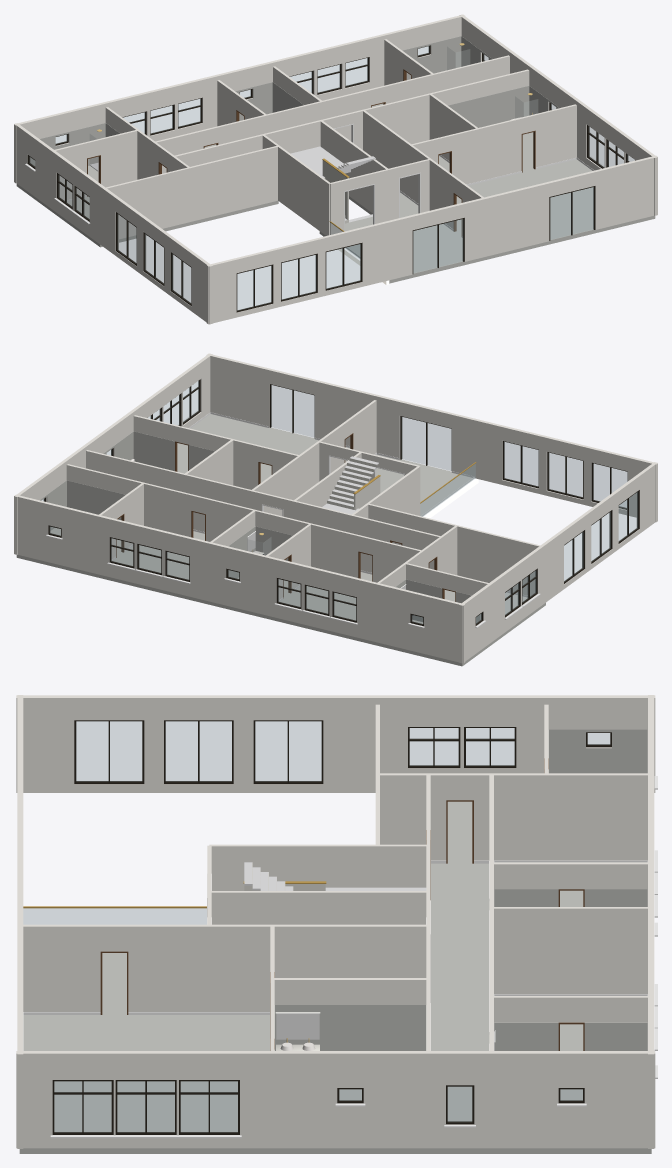
The model's file is int_est_S10_1.glb.
The picture shows the model from 3 angles, top to bottom: view 1: azimuth 30°, elevation 25°; view 2: azimuth 150°, elevation 25°; view 3: azimuth 270°, elevation 25°; orthographic projection. The views are drawn at different scales.
Visible parts, largest first — view 1: WALL_0, ROOM, WALL_13, WALL_5, WALL_4, WALL_9, WALL_14, WALL_7, WALL_3, WALL_2, WALL_6, WALL_1 (+7 smaller); view 2: WALL_13, WALL_0, ROOM, WALL_5, WALL_14, WALL_7, WALL_3, WALL_4, WALL_2, WALL_9, WALL_12, WALL_1 (+7 smaller); view 3: ROOM, WALL_3, WALL_5, WALL_2, WALL_12, WALL_16, WALL_1, WALL_8, WALL_15, WALL_17, WALL_10, WALL_13 (+4 smaller).
Boxes of the visible parts, x1,y1,x2,y2 form: WALL_0: (206,155,657,324); ROOM: (16,36,655,284); WALL_13: (14,14,464,183); WALL_5: (14,123,212,324); WALL_4: (106,146,277,239); WALL_9: (410,104,576,184); WALL_14: (154,55,509,173); WALL_7: (174,69,529,166); WALL_3: (459,14,657,215); WALL_2: (363,110,483,236); WALL_6: (330,159,430,234); WALL_1: (262,135,330,235); WALL_13: (14,495,465,663); WALL_0: (207,353,657,522); ROOM: (16,412,545,666); WALL_5: (459,462,657,663); WALL_14: (66,464,422,582); WALL_7: (86,450,441,572); WALL_3: (14,353,212,554); WALL_4: (368,503,540,595); WALL_2: (252,400,376,515); WALL_9: (133,415,299,489); WALL_12: (377,525,457,586); WALL_1: (352,466,420,518); ROOM: (19,729,651,1153); WALL_3: (16,1051,655,1148); WALL_5: (16,695,655,792); WALL_2: (23,924,426,1014); WALL_12: (378,773,647,863); WALL_16: (494,907,647,994); WALL_1: (209,844,426,890); WALL_8: (209,891,426,924); WALL_15: (494,862,647,906); WALL_17: (494,996,647,1050); WALL_10: (274,978,426,1004); WALL_13: (648,695,657,1148).
Bounding box in the file's own units: 29.43 × 3.9 × 22.16.
Materials: 13 (1 with a texture image).
